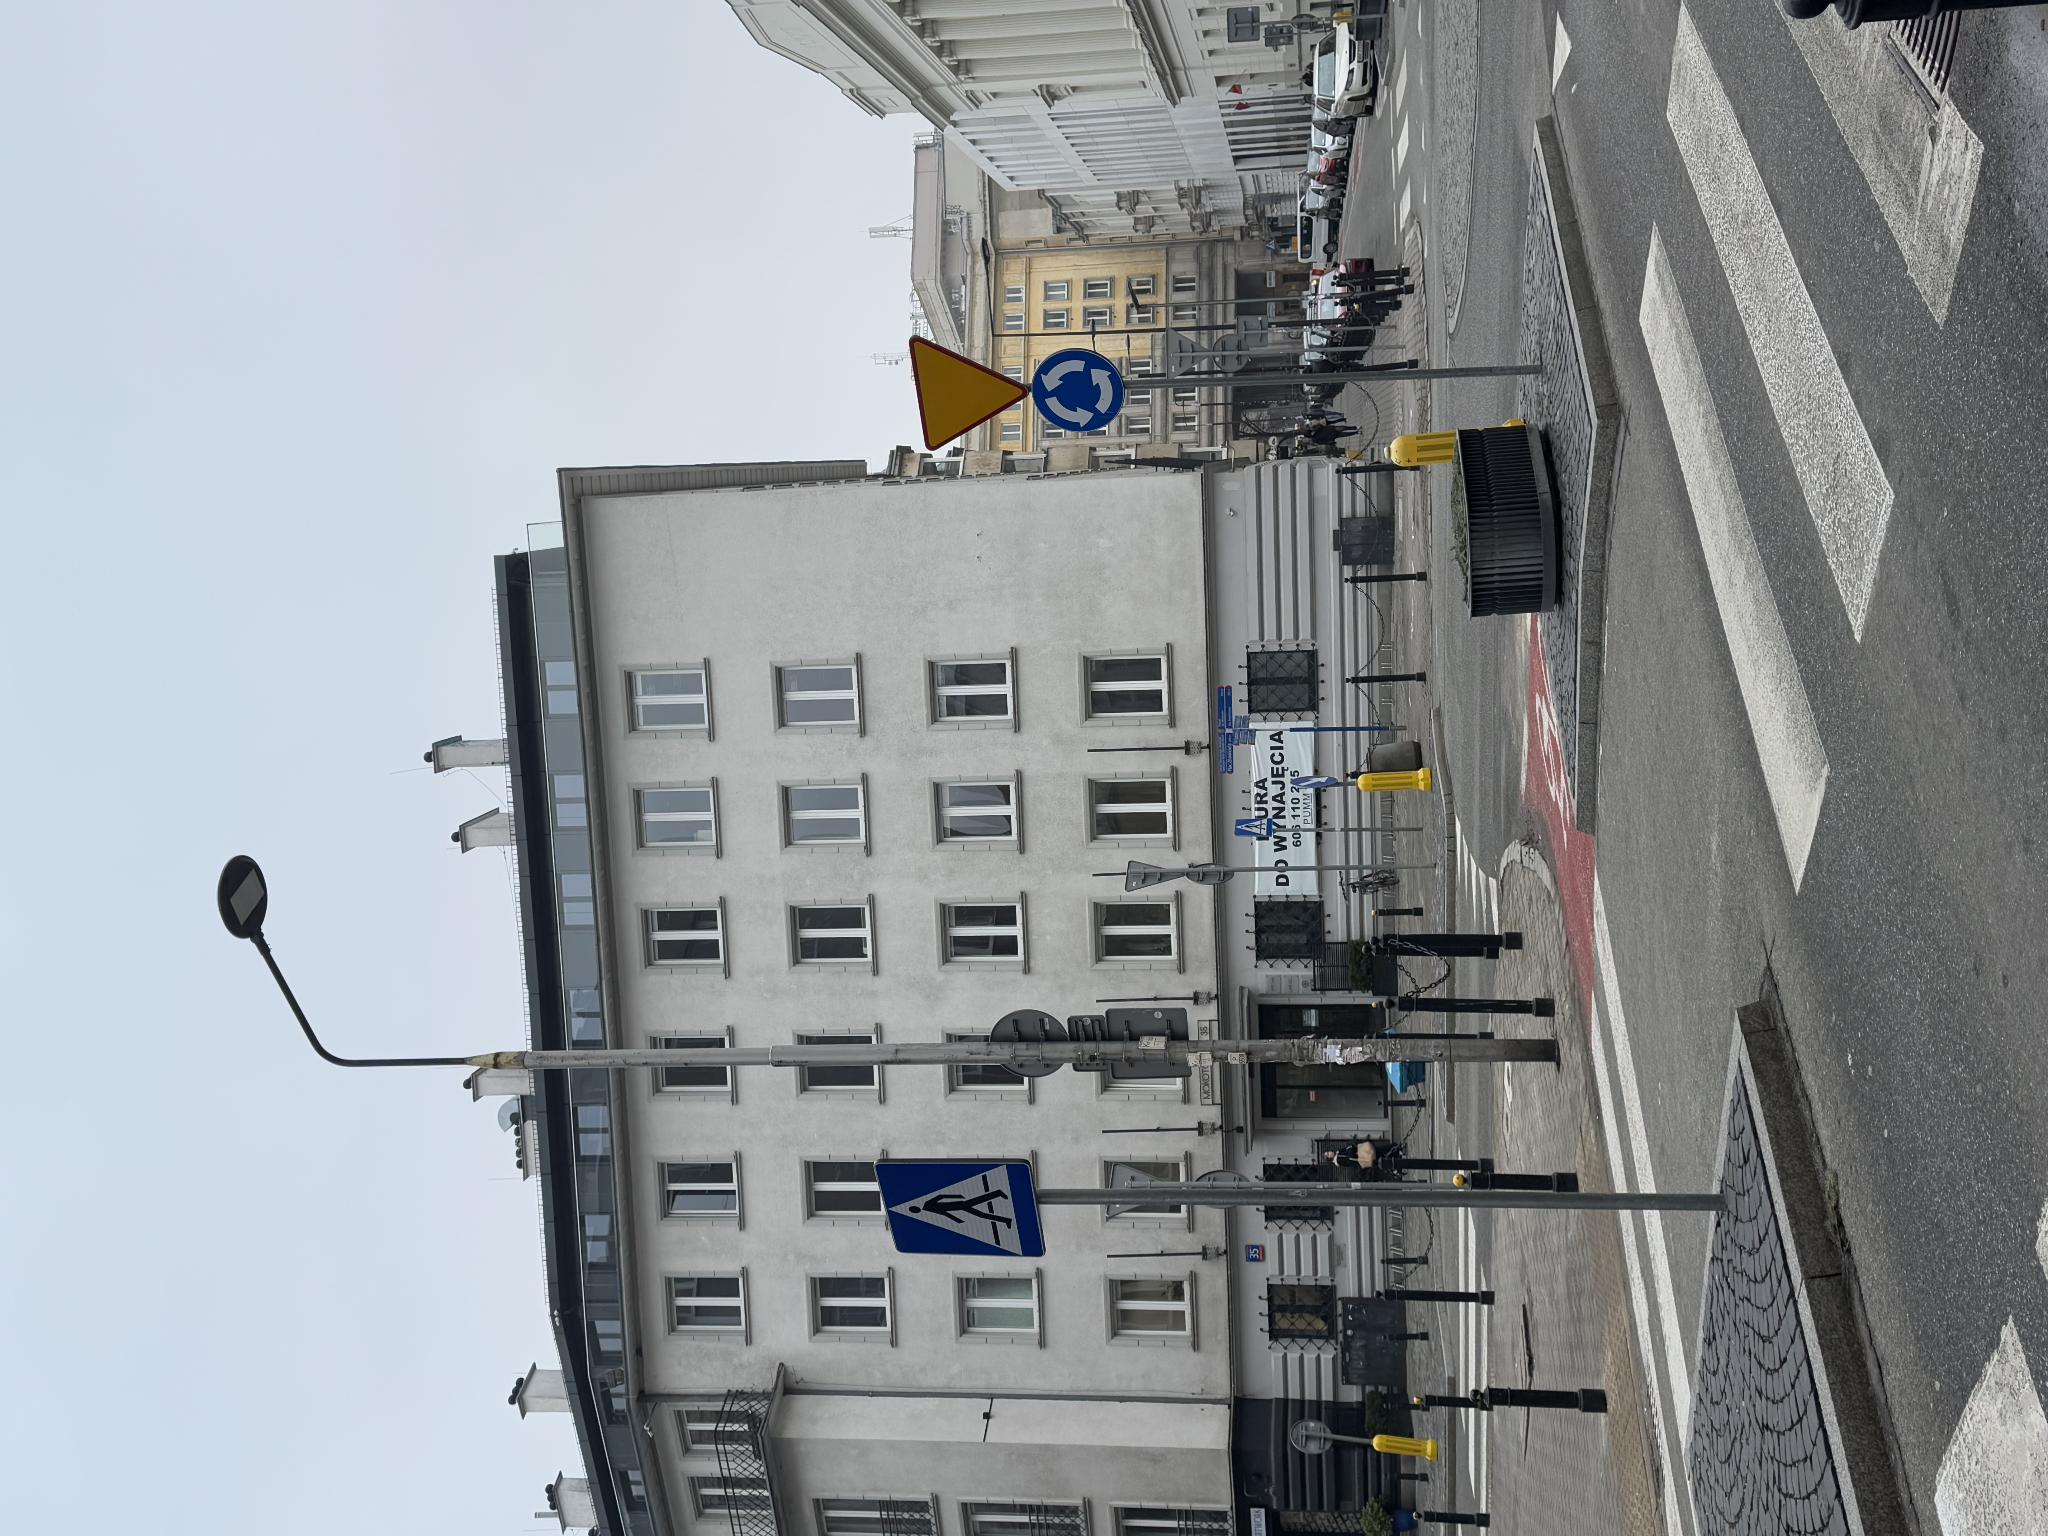information: (277, 873, 381, 1049), (700, 1234, 719, 1271)
mandatory: (1101, 1029, 1190, 1125), (748, 1291, 761, 1338)
warning: (1084, 907, 1201, 1031)
